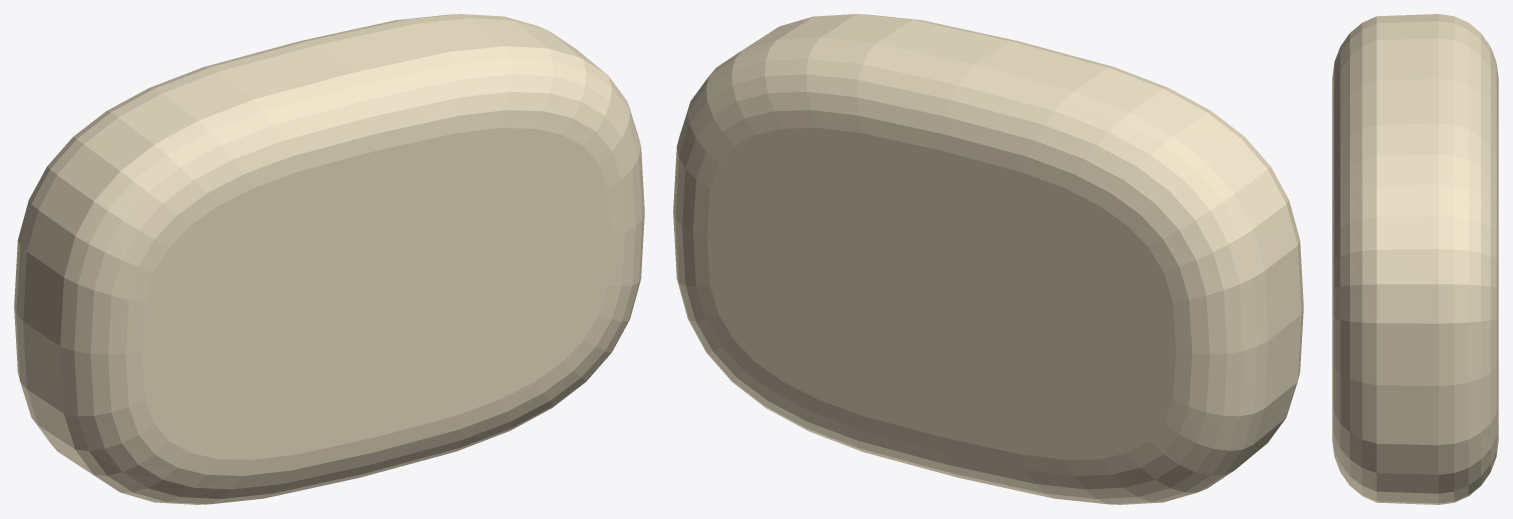
The model's file is sabonete_barra.obj.
The picture shows the model from 3 angles, left to right: view 1: azimuth 30°, elevation 25°; view 2: azimuth 150°, elevation 25°; view 3: azimuth 270°, elevation 25°; orthographic projection. The views are drawn at different scales.
Parts seen in each view (by area): view 1: sabonete_barra; view 2: sabonete_barra; view 3: sabonete_barra.
Boxes of the visible parts, <box> form: sabonete_barra: <box>14,14,644,504</box>; sabonete_barra: <box>673,14,1303,504</box>; sabonete_barra: <box>1332,14,1498,504</box>.
Bounding box in the file's own units: 90 × 60 × 25.
